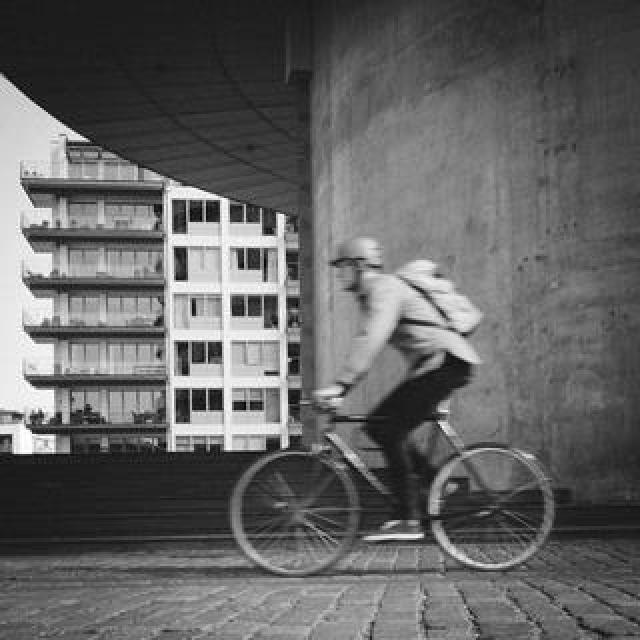MC-Bike: (316, 236, 486, 544)
Person: (230, 387, 554, 579)
